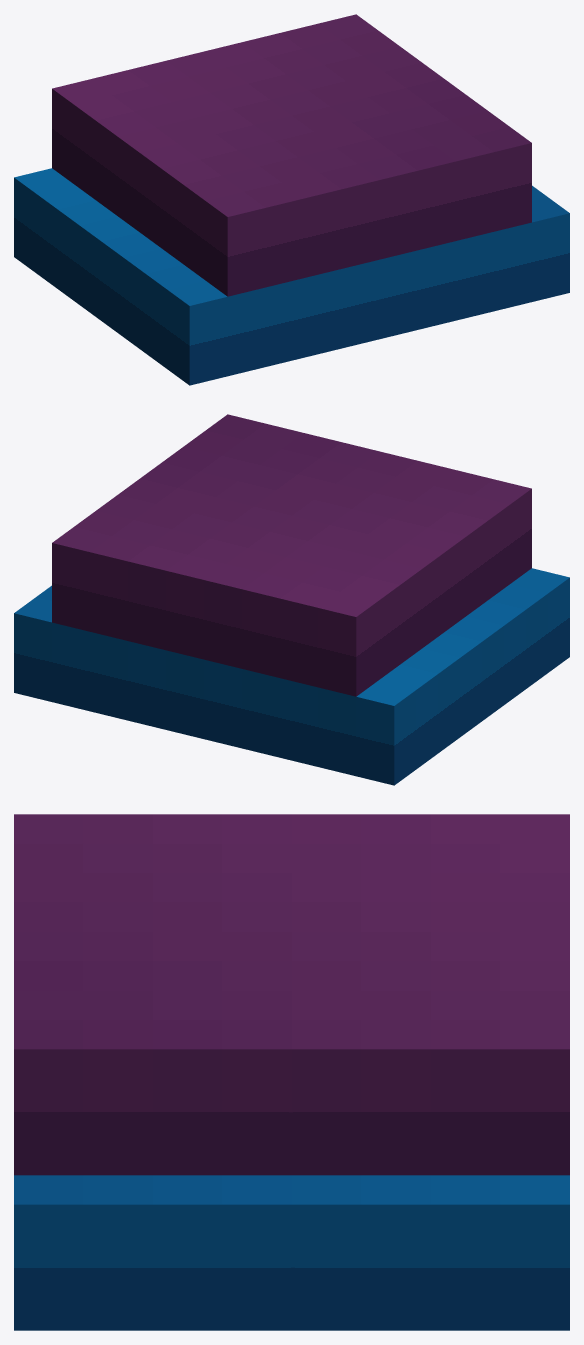
The model's file is Towels.fbx.
3 renders of one model, top to bottom at view 1: azimuth 30°, elevation 25°; view 2: azimuth 150°, elevation 25°; view 3: azimuth 270°, elevation 25°, orthographic. The views are drawn at different scales.
Visible parts, largest first — view 1: cube_1, cube; view 2: cube_1, cube; view 3: cube_1, cube.
Boxes of the visible parts, x1,y1,x2,y2 form: cube_1: [52, 14, 531, 296]; cube: [14, 168, 569, 385]; cube_1: [52, 414, 531, 696]; cube: [14, 568, 569, 785]; cube_1: [14, 814, 569, 1175]; cube: [14, 1175, 569, 1330].
Bounding box in the file's own units: 62.5 × 25 × 50.
1 material, 1 textured.
